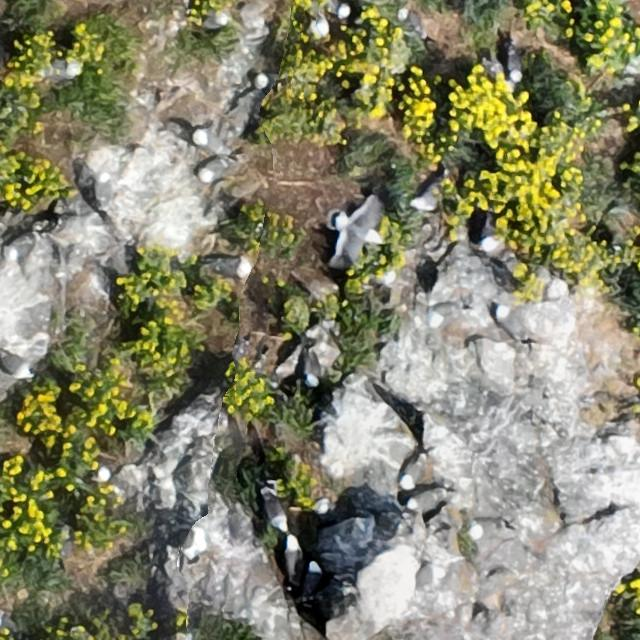F: (336, 195, 381, 264)
umineko: (411, 562, 447, 592), (496, 306, 526, 340), (200, 156, 230, 188), (212, 257, 252, 277), (264, 492, 284, 528), (1, 354, 29, 379), (406, 491, 439, 512), (430, 302, 459, 324), (400, 10, 424, 36), (194, 131, 225, 151), (410, 190, 438, 211), (470, 520, 502, 538), (401, 458, 420, 486), (304, 563, 320, 596), (50, 60, 79, 78), (507, 48, 522, 82), (285, 536, 300, 570), (304, 355, 319, 387), (479, 218, 494, 250), (326, 2, 352, 20), (94, 173, 108, 205), (203, 12, 229, 29), (91, 464, 115, 481), (252, 72, 272, 88)
